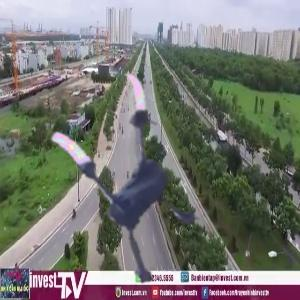drone: (17, 75, 230, 288)
